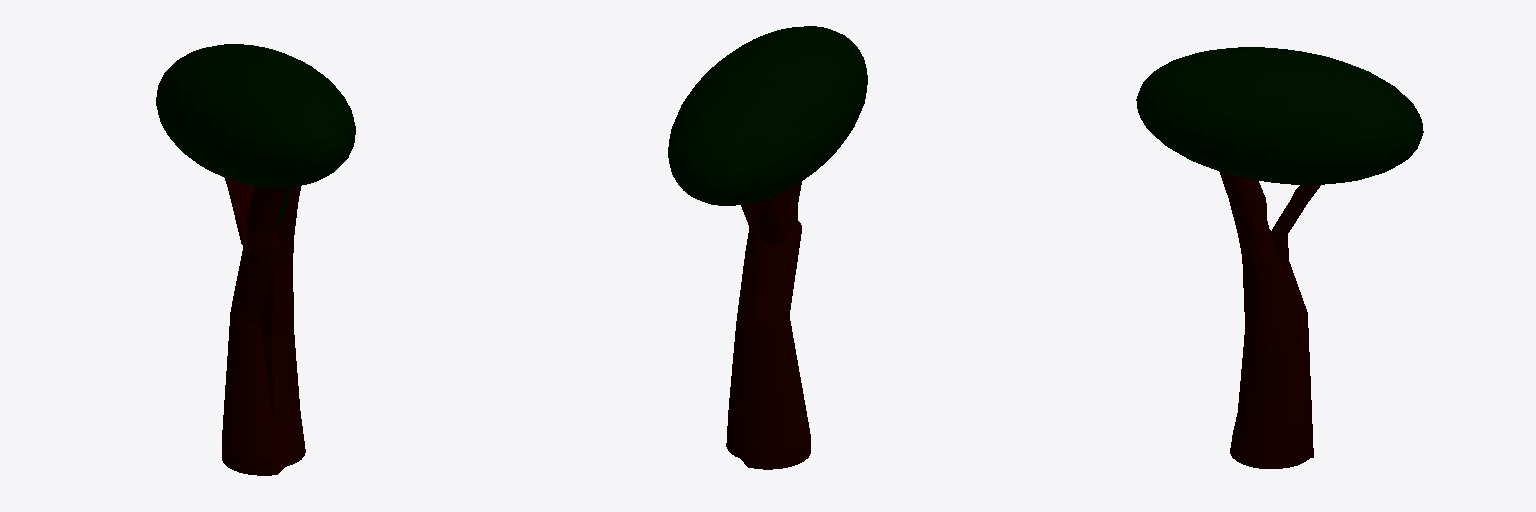
The model's file is tree.obj.
3 renders of one model, left to right at view 1: azimuth 30°, elevation 25°; view 2: azimuth 150°, elevation 25°; view 3: azimuth 270°, elevation 25°, orthographic.
Visible parts, largest first — view 1: Cylinder; view 2: Cylinder; view 3: Cylinder.
Part boxes in pixels (x1,y1,x2,y2): Cylinder: (156, 44, 355, 475); Cylinder: (668, 26, 867, 469); Cylinder: (1136, 47, 1423, 468).
Bounding box in the file's own units: 3.8 × 10.4 × 6.78.